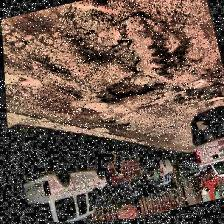pothole: (106, 77, 154, 103), (208, 80, 224, 104)
